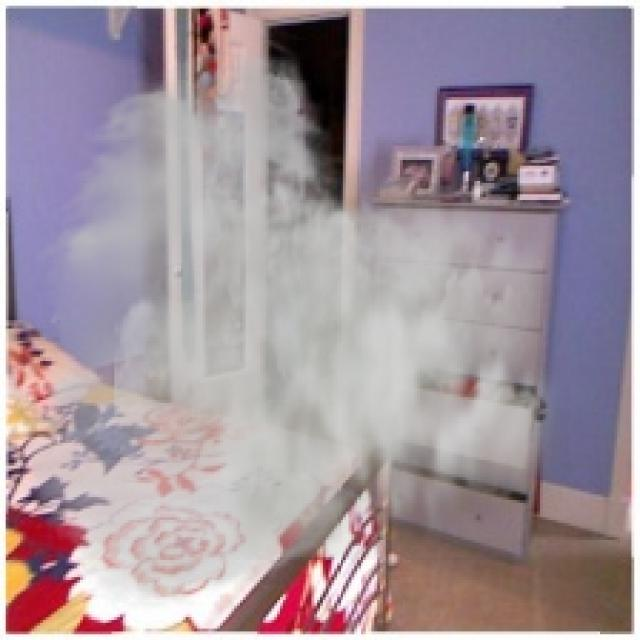smoke: (20, 46, 583, 614)
